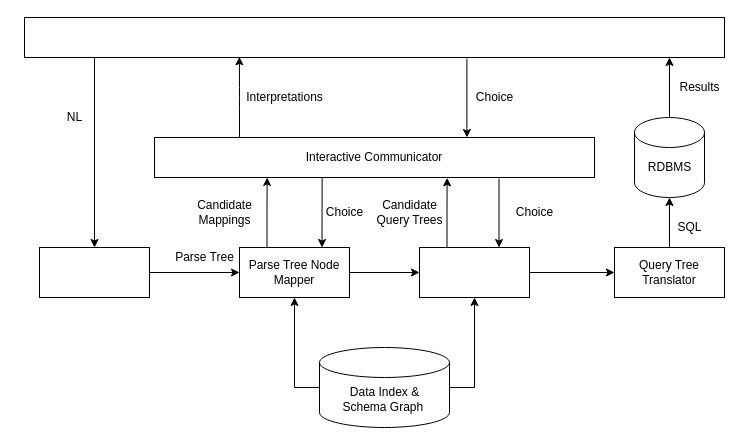
This 747x445 diagram has some shape labels left out. Here are the shapes that lost their labels. From the top down, the centre of each, then its label:
At (x=374, y=37): "User Interface".
At (x=94, y=272): "Dependency Parser".
At (x=474, y=272): "Parse Tree Structure Adjustor".
